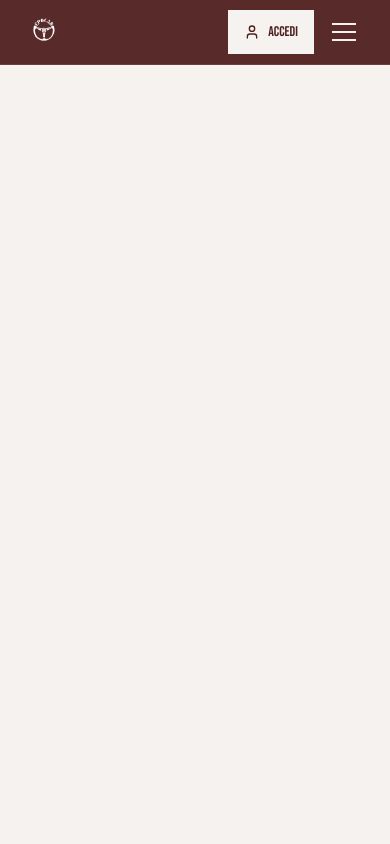
Test: public accessibility › marks the current section, including old News links, and updates it after navigation
Click the button named "Menu" at (344, 32), box [322,10,366,54]
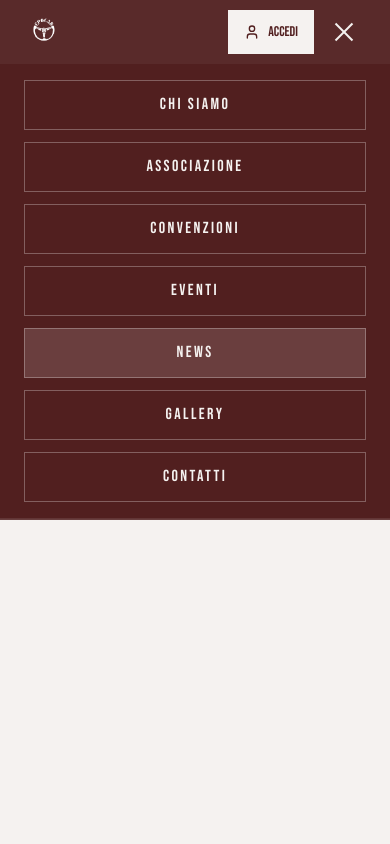
Click the link "Eventi" at (195, 291), box [24,266,366,316]
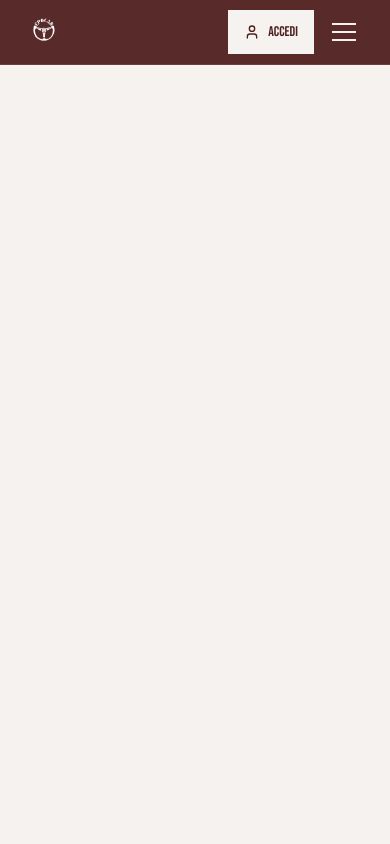
Check: the button named "Menu" is collapsed, box [322,10,366,54]
